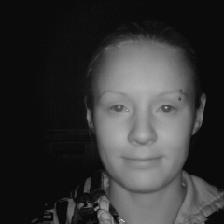happy: (68, 22, 212, 192)
